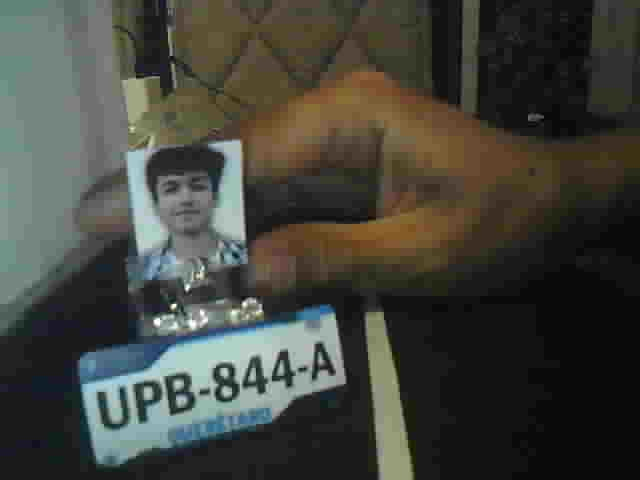PLACA: (73, 303, 348, 472)
ROSTRO: (139, 149, 248, 268)
